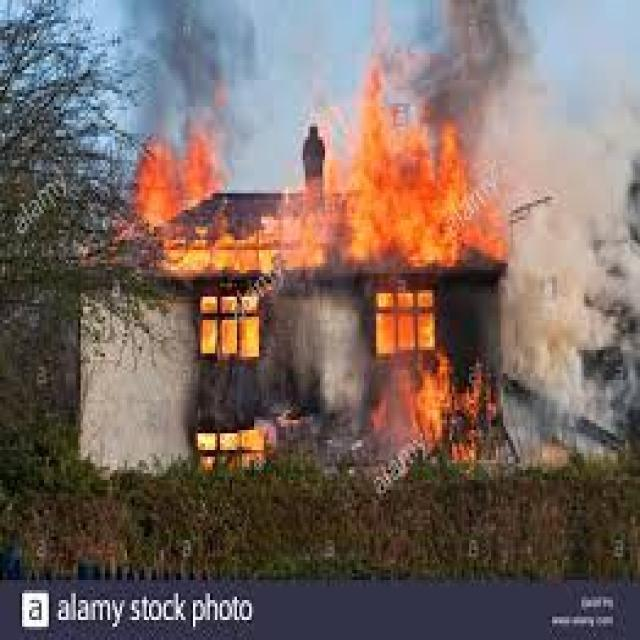Fire: (329, 130, 474, 280), (140, 145, 232, 275), (401, 366, 476, 454), (200, 296, 260, 358), (376, 294, 434, 354), (196, 431, 266, 464)
Smoke: (513, 92, 640, 466), (127, 0, 266, 127), (397, 0, 509, 114)
